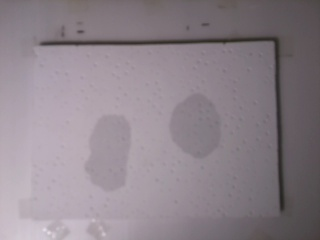Water_detected: (97, 125, 137, 188), (180, 100, 220, 151)
